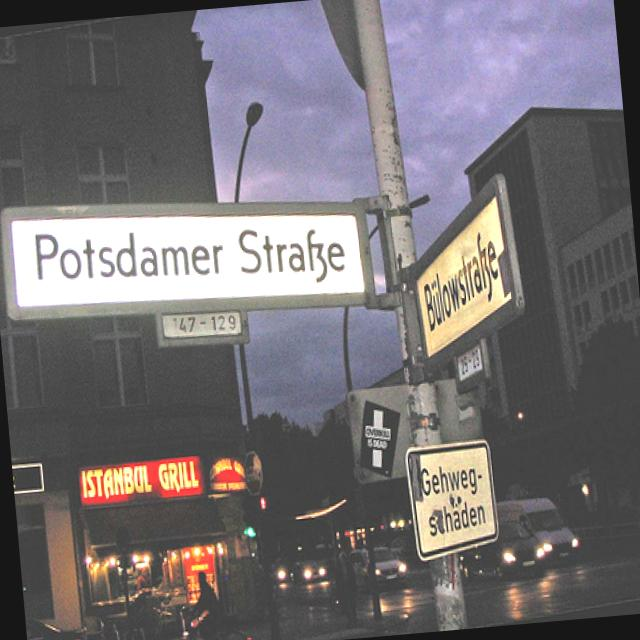Vehicle: (490, 492, 580, 570), (457, 518, 546, 583), (347, 544, 409, 596), (24, 609, 91, 640), (292, 559, 328, 583)
